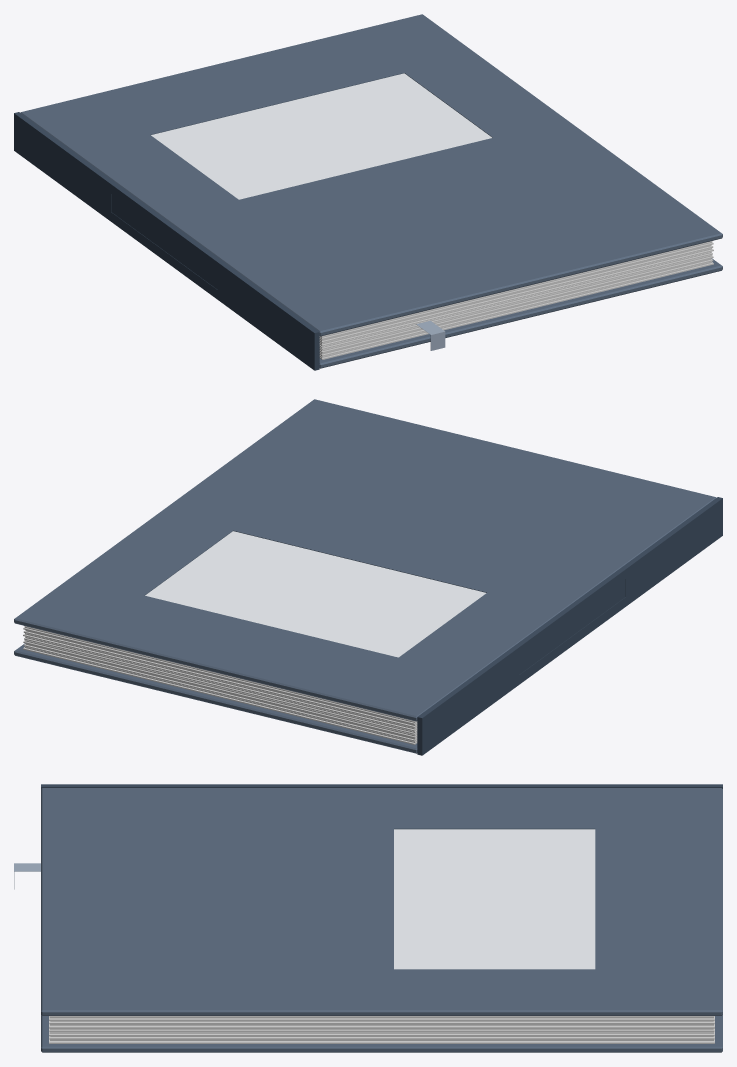
The model's file is notebook.glb.
The picture shows the model from 3 angles, top to bottom: view 1: azimuth 30°, elevation 25°; view 2: azimuth 150°, elevation 25°; view 3: azimuth 270°, elevation 25°; orthographic projection. The views are drawn at different scales.
Parts seen in each view (by area): view 1: Cover_Front, Label_Front, Spine, PageStack_Right, PageStack_Left, Cover_Back; view 2: Cover_Front, Label_Front, Spine, PageStack_Right, PageStack_Left, Cover_Back; view 3: Cover_Front, Label_Front, PageStack_Right, PageStack_Left, Cover_Back, Spine.
Part boxes in pixels (box(x1,y1,x2,y2)): Cover_Front: box(20, 14, 722, 336); Label_Front: box(151, 73, 492, 199); Spine: box(14, 112, 319, 370); PageStack_Right: box(319, 252, 713, 359); PageStack_Left: box(319, 241, 713, 346); Cover_Back: box(319, 258, 722, 368); Cover_Front: box(14, 399, 716, 721); Label_Front: box(145, 531, 486, 657); Spine: box(417, 497, 722, 755); PageStack_Right: box(23, 637, 417, 744); PageStack_Left: box(23, 626, 417, 731); Cover_Back: box(14, 643, 417, 753); Cover_Front: box(41, 788, 722, 1015); Label_Front: box(394, 829, 595, 969); PageStack_Right: box(49, 1028, 714, 1043); PageStack_Left: box(49, 1016, 714, 1028); Cover_Back: box(41, 1015, 722, 1052); Spine: box(41, 784, 722, 788).
Size of the model in its own units: 2 by 0.175 by 2.64.
